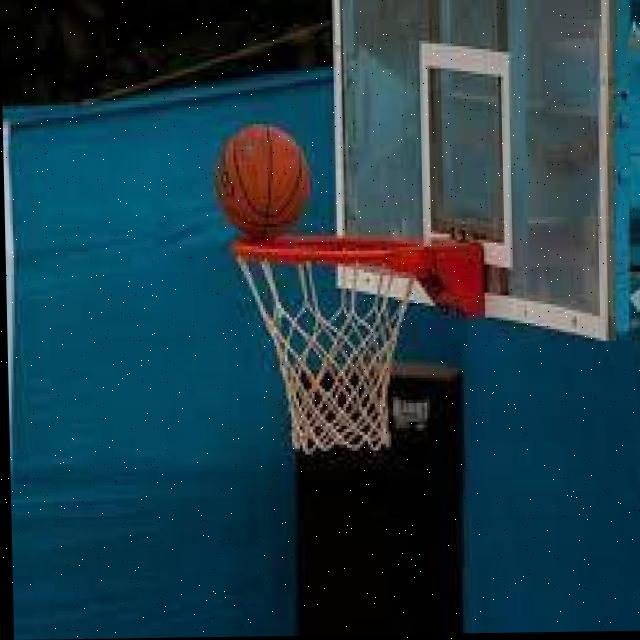rebound_hit: (214, 123, 309, 247)
